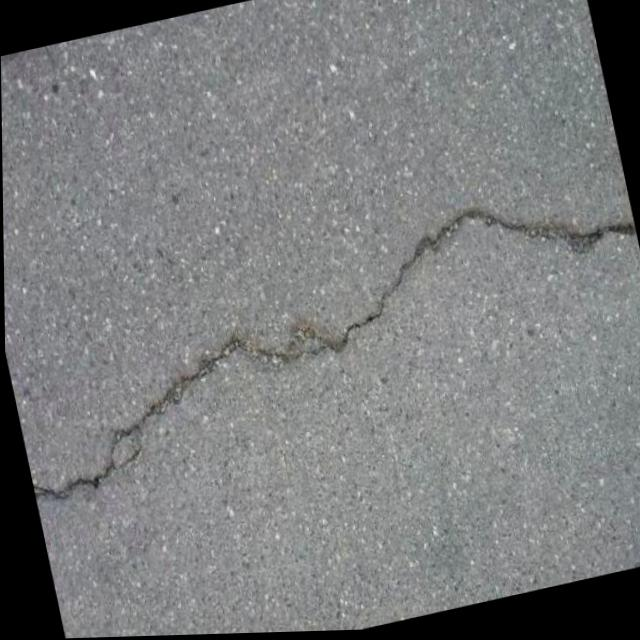Crack: (2, 164, 640, 518)
